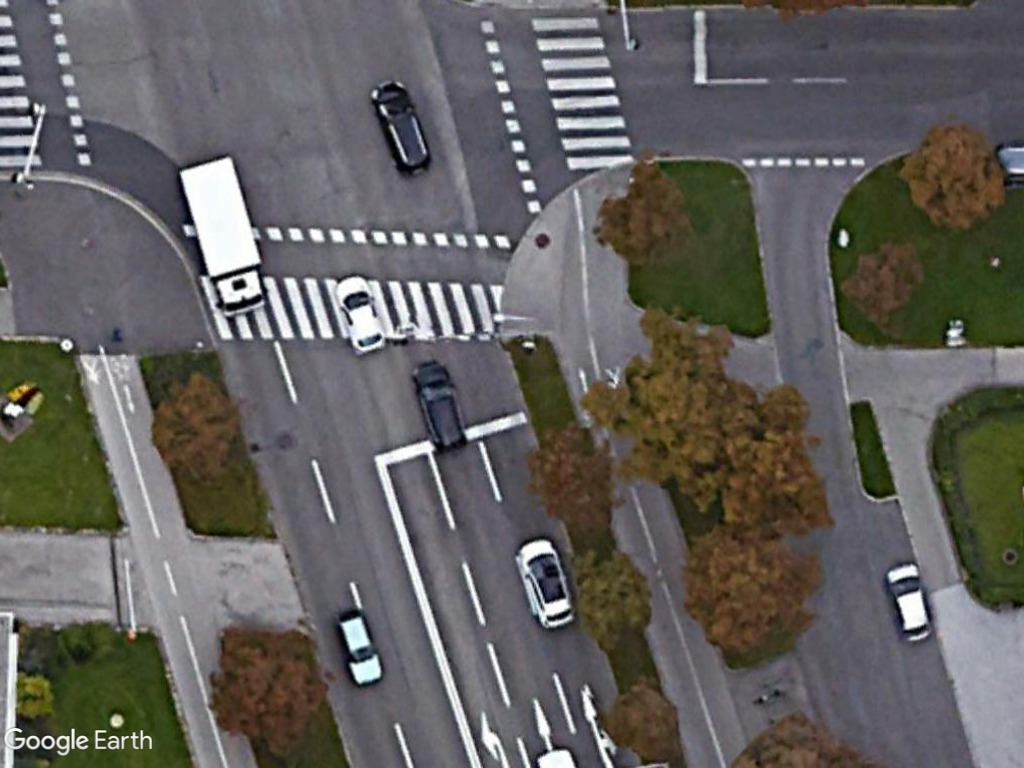car: (369, 73, 435, 177), (410, 356, 471, 458), (516, 533, 579, 630), (881, 558, 937, 648), (334, 273, 389, 355), (334, 609, 385, 689)
truck: (174, 150, 272, 320)
